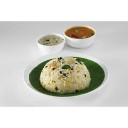venpongal: (42, 59, 90, 91)
